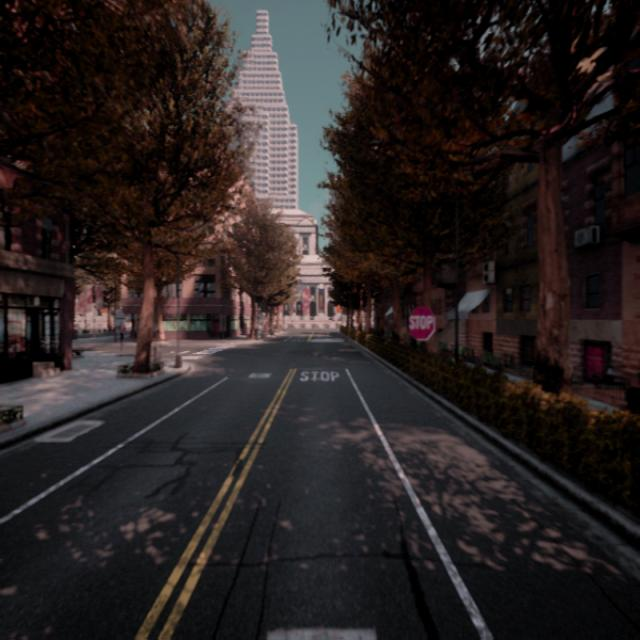stop sign: (406, 302, 438, 342), (408, 313, 434, 332)
